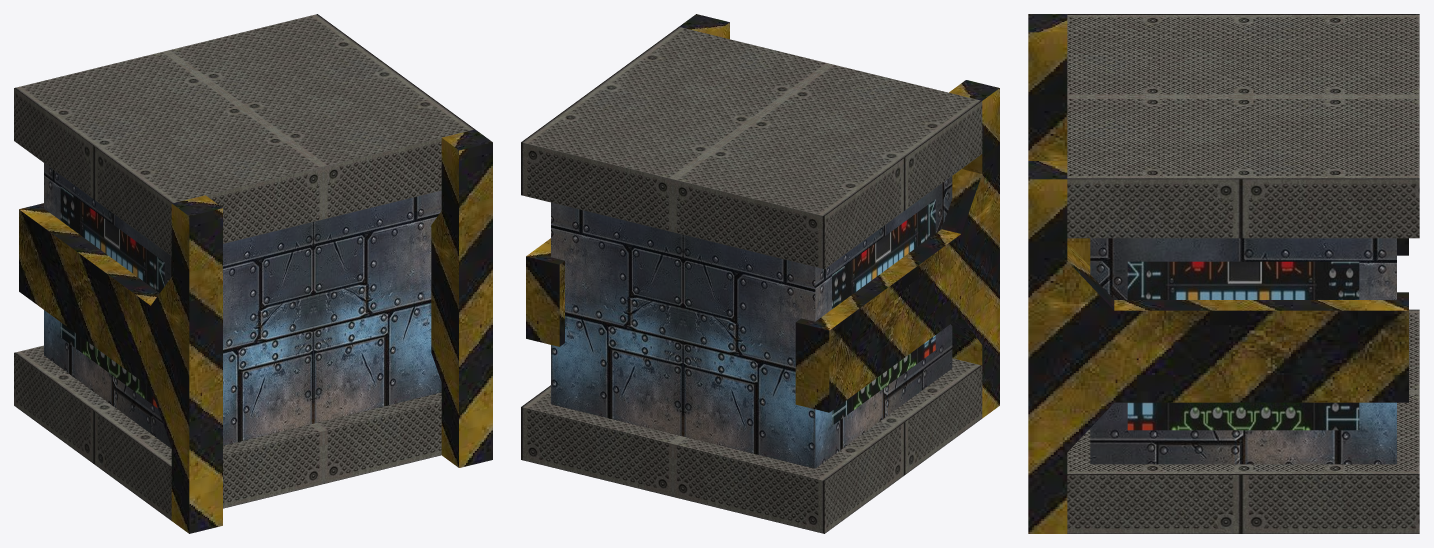
File: Pusher.002.fbx
The picture shows the model from 3 angles, left to right: view 1: azimuth 30°, elevation 25°; view 2: azimuth 150°, elevation 25°; view 3: azimuth 270°, elevation 25°; orthographic projection. The views are drawn at different scales.
Parts seen in each view (by area): view 1: Body, Arms; view 2: Body, Arms; view 3: Body, Arms.
Boxes of the visible parts, x1,y1,x2,y2 form: Body: (14, 14, 474, 520); Arms: (19, 129, 492, 533); Body: (521, 27, 982, 533); Arms: (526, 14, 999, 418); Body: (1067, 14, 1419, 533); Arms: (1028, 14, 1408, 533).
Bounding box in the file's own units: 2 × 2 × 2.
